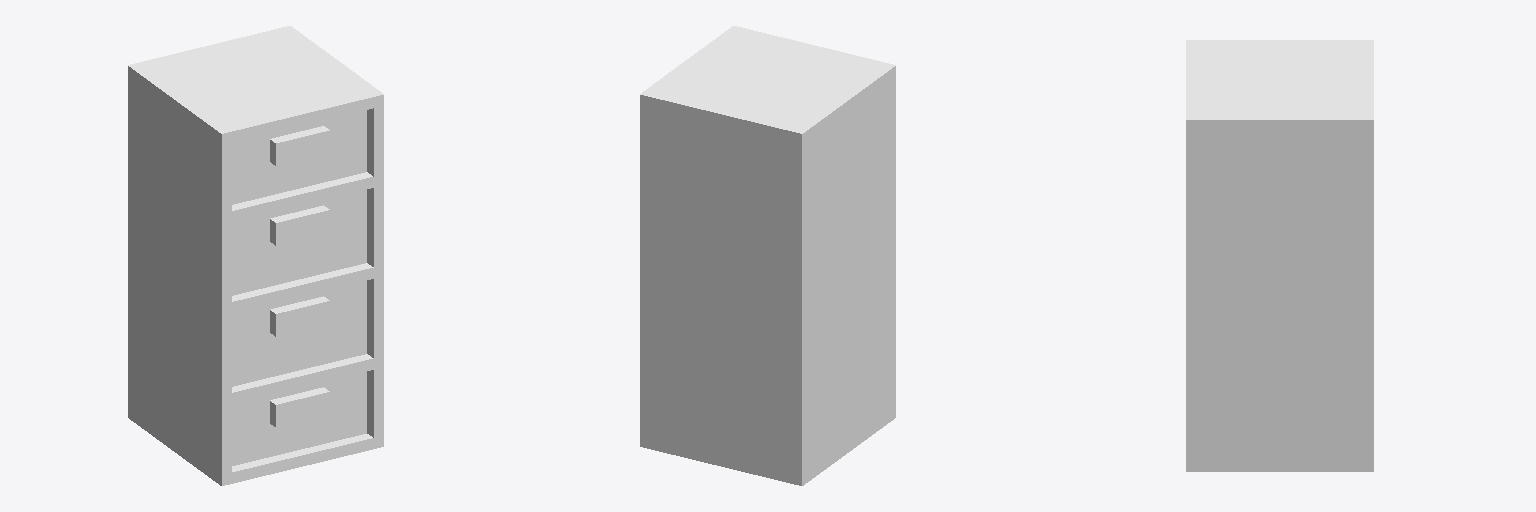
File: Filingcabinet.obj
3 renders of one model, left to right at view 1: azimuth 30°, elevation 25°; view 2: azimuth 150°, elevation 25°; view 3: azimuth 270°, elevation 25°, orthographic.
Visible parts, largest first — view 1: object 1; view 2: object 1; view 3: object 1.
Part boxes in pixels (x1,y1,x2,y2): object 1: (128, 26, 383, 485); object 1: (640, 26, 895, 485); object 1: (1186, 40, 1373, 471).
Size of the model in its own units: 1.5 by 3.1 by 1.5.